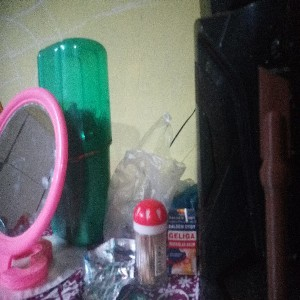cutter: (257, 65, 291, 300)
